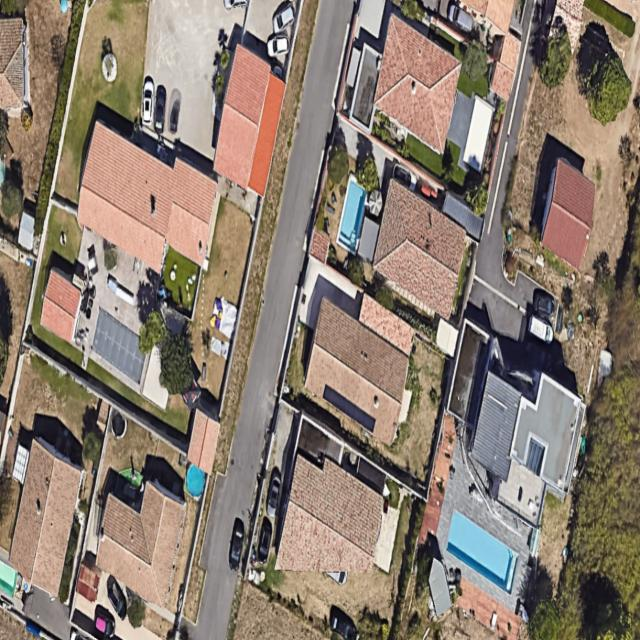maison: (391, 318, 618, 532), (49, 121, 238, 288), (292, 283, 426, 443), (345, 179, 495, 318), (274, 414, 393, 584), (367, 14, 469, 156), (87, 472, 189, 608), (5, 435, 87, 597), (207, 44, 293, 196)
